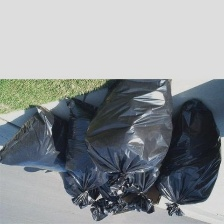plastic_bag: (80, 78, 178, 194), (152, 94, 224, 218), (59, 94, 113, 207), (0, 103, 74, 175), (105, 161, 163, 216)
